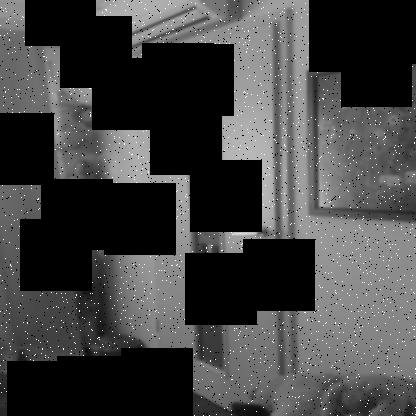Porte: (144, 6, 303, 416)
